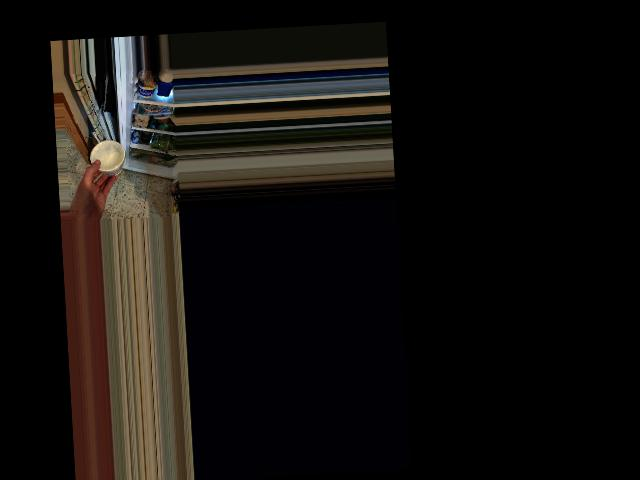cotage: (92, 140, 124, 175)
